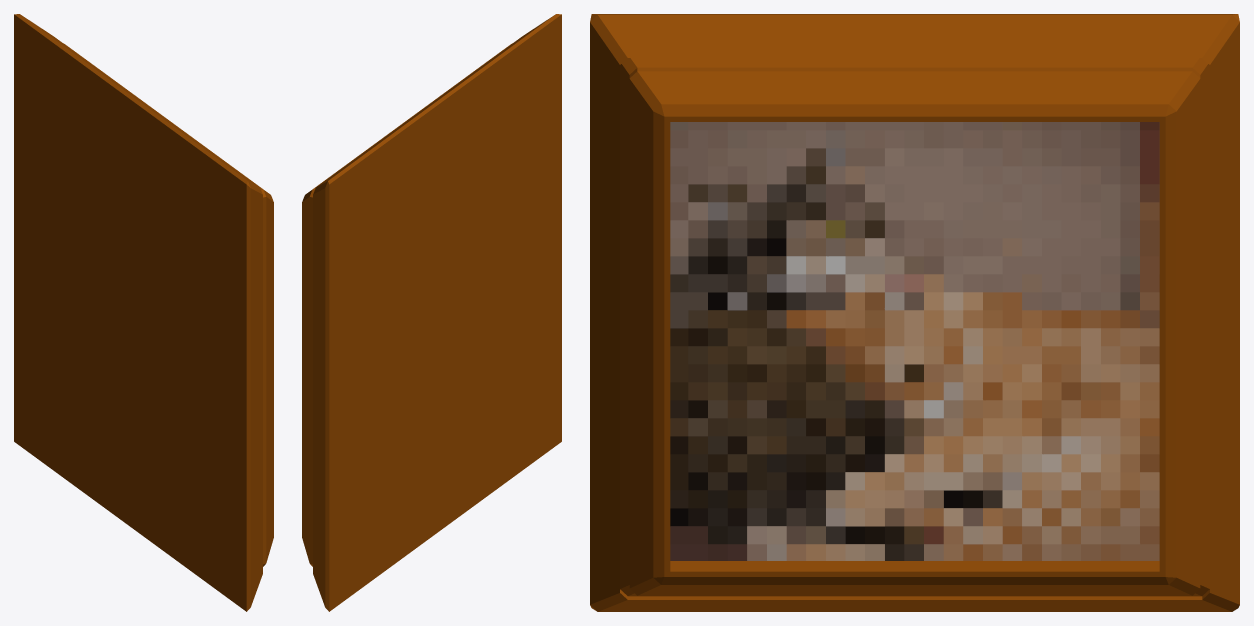
The model's file is Image_TwoCats.glb.
3 views of the same model, side by side, from view 1: azimuth 30°, elevation 25°; view 2: azimuth 150°, elevation 25°; view 3: azimuth 270°, elevation 25° (orthographic). The views are drawn at different scales.
Parts seen in each view (by area): view 1: Plane; view 2: Plane; view 3: Plane.
Boxes of the visible parts, box(x1,y1,x2,y2) form: Plane: box(14, 14, 273, 611); Plane: box(302, 14, 561, 611); Plane: box(590, 14, 1239, 611).
Bounding box in the file's own units: 0.0513 × 0.3996 × 0.3942.
Materials: 2 (1 with a texture image).
